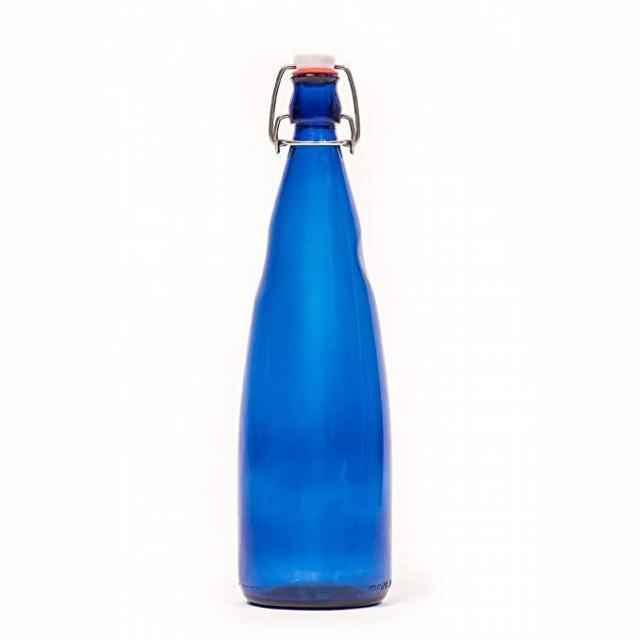glass: (226, 40, 403, 622)
